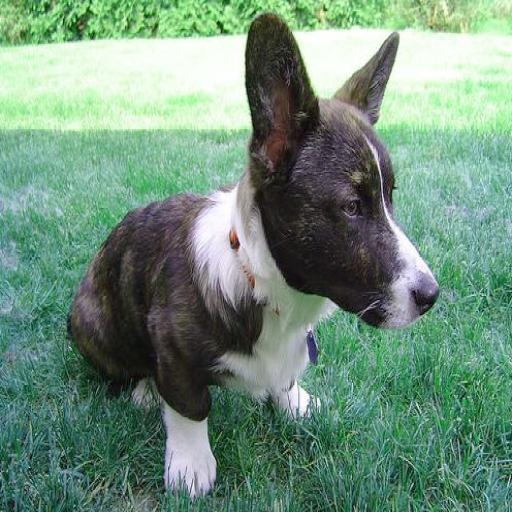dog_face: (231, 13, 435, 319)
